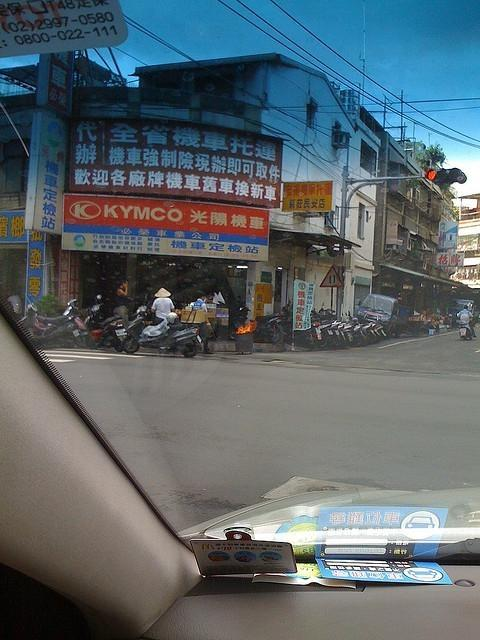motorcycle: (114, 306, 200, 358), (19, 298, 98, 352), (295, 317, 332, 350), (346, 312, 374, 346), (102, 315, 126, 352), (328, 322, 350, 350), (349, 316, 366, 348), (282, 301, 293, 335), (368, 324, 380, 344), (343, 322, 352, 344), (374, 326, 386, 340), (458, 326, 470, 340)
